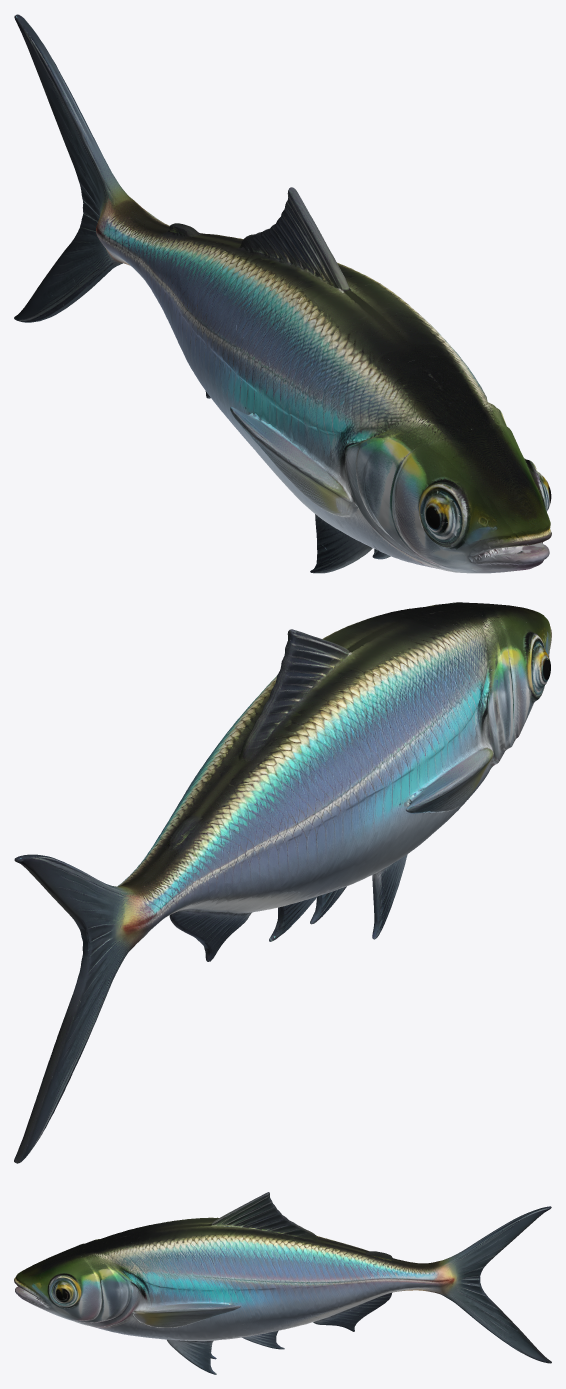
File: bait_fish.glb
3 views of the same model, one above another, from view 1: azimuth 30°, elevation 25°; view 2: azimuth 150°, elevation 25°; view 3: azimuth 270°, elevation 25° (orthographic). The views are drawn at different scales.
Size of the model in its own units: 0.4077 by 0.6803 by 1.9.
1 material, 1 textured.
